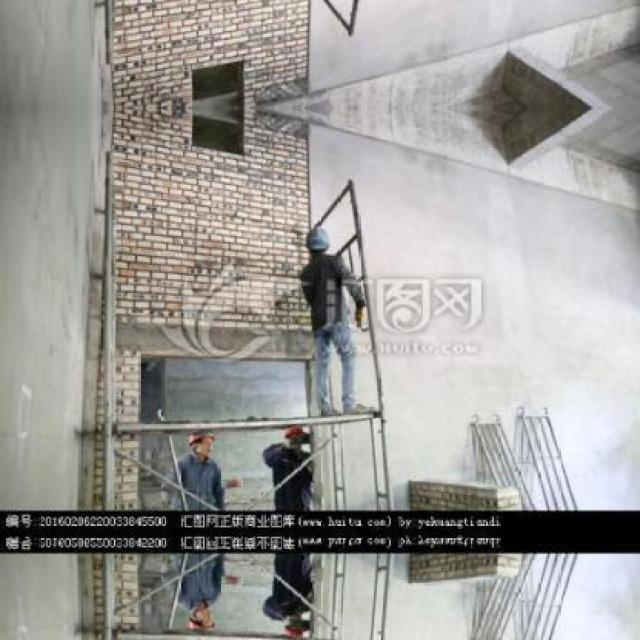hat: (298, 217, 336, 249), (179, 420, 216, 451), (280, 420, 309, 446)
